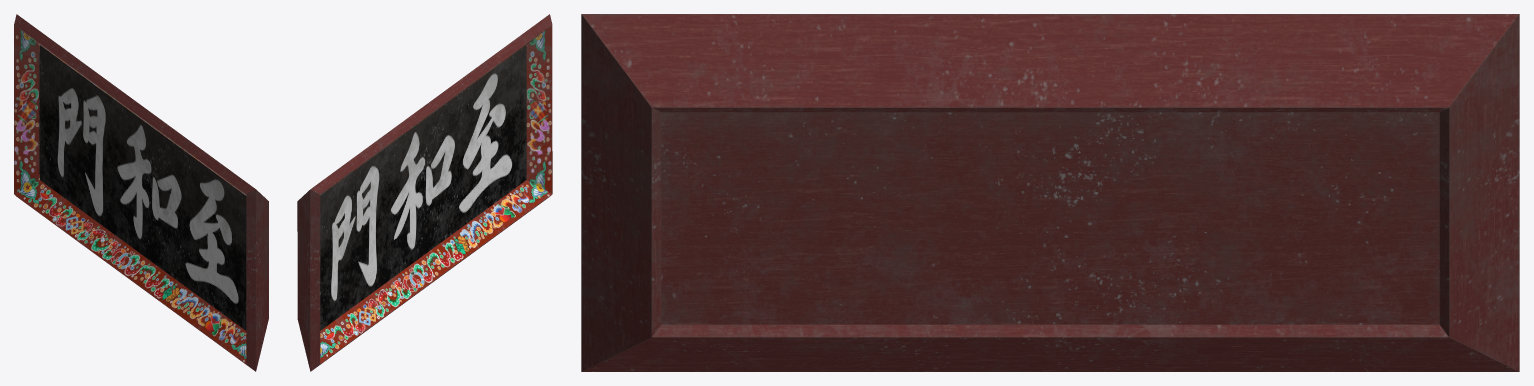
Rendered from SM_JHG_Signboard01f.fbx.
The picture shows the model from 3 angles, left to right: view 1: azimuth 30°, elevation 25°; view 2: azimuth 150°, elevation 25°; view 3: azimuth 270°, elevation 25°; orthographic projection. The views are drawn at different scales.
Visible parts, largest first — view 1: SM_JHG_Signboard01f; view 2: SM_JHG_Signboard01f; view 3: SM_JHG_Signboard01f.
Part boxes in pixels (x1,y1,x2,y2): SM_JHG_Signboard01f: (14,14,268,371); SM_JHG_Signboard01f: (297,14,552,371); SM_JHG_Signboard01f: (581,14,1519,371).
Size of the model in its own units: 17 by 190 by 80.
Materials: 1 (1 with a texture image).
